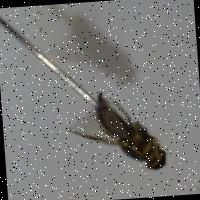Oriental-fruit-fly: (54, 77, 183, 188)
